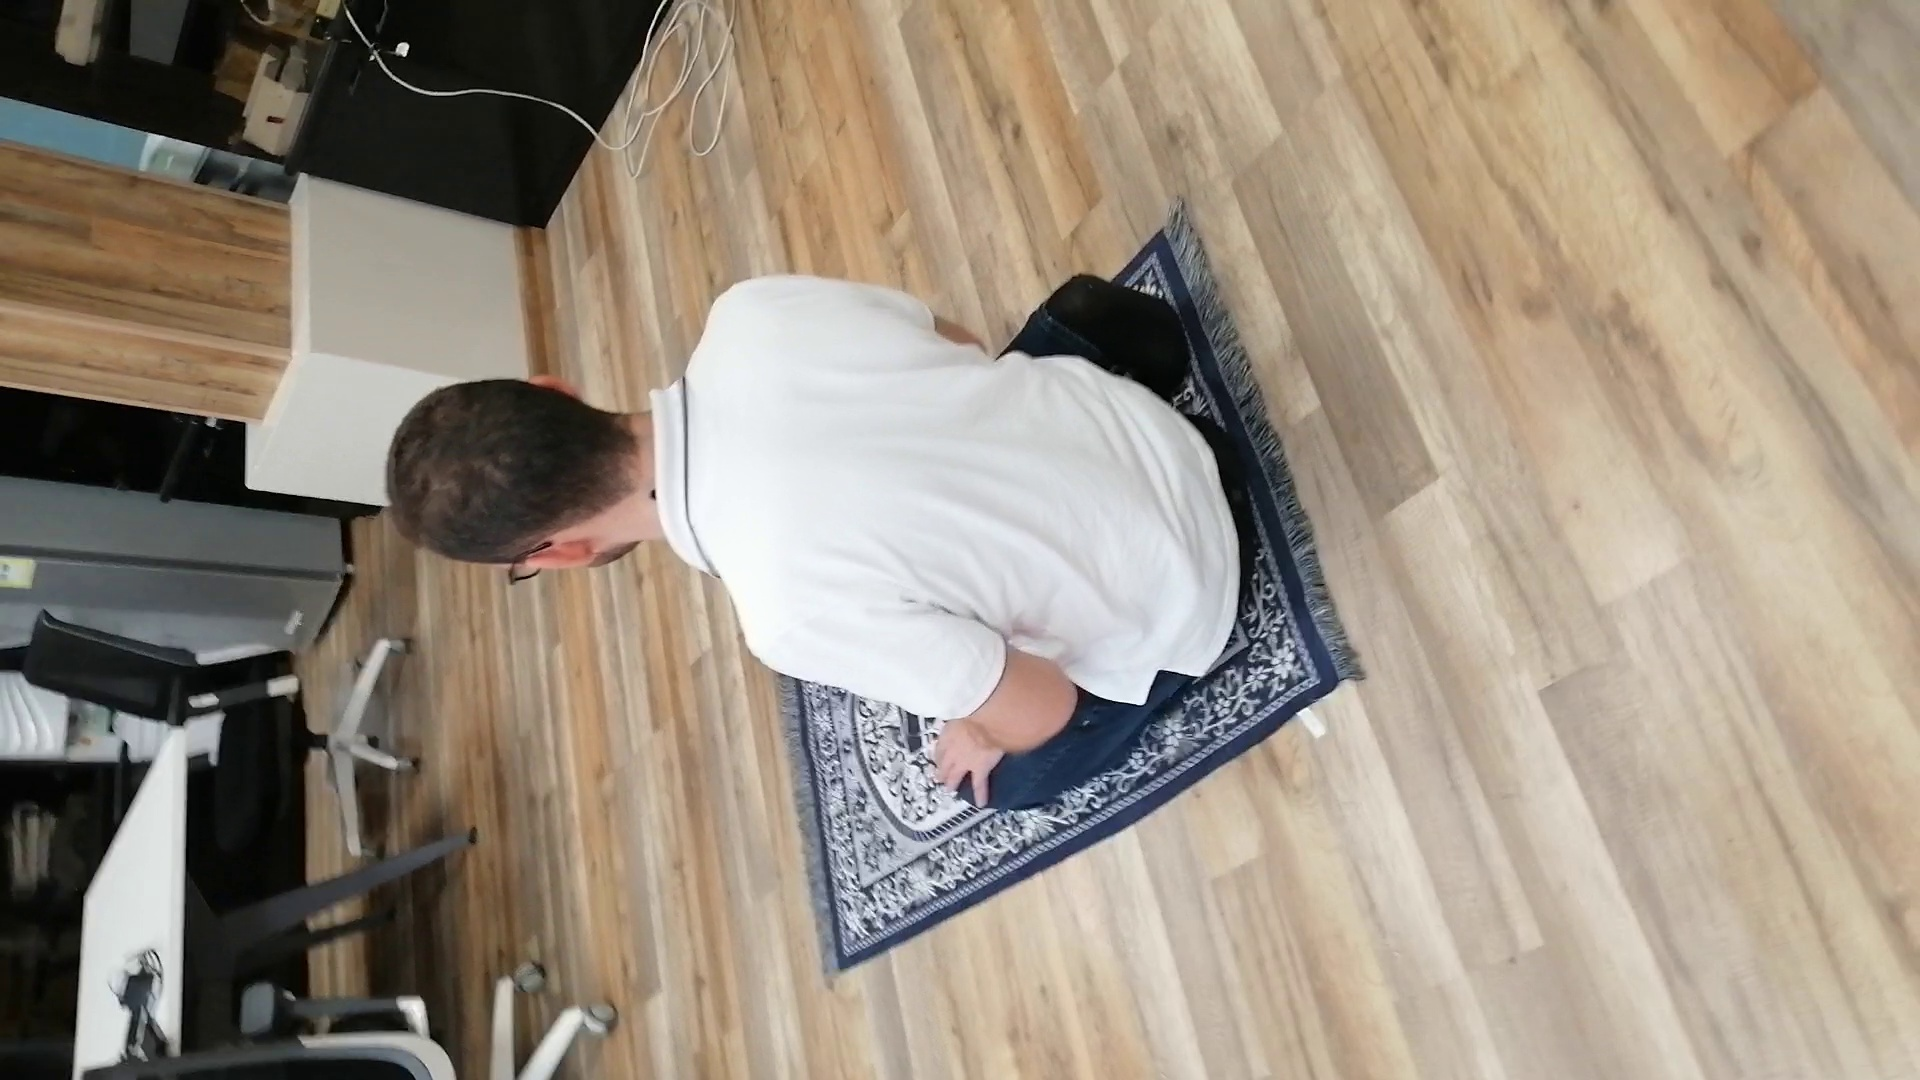sitting: (371, 261, 1276, 820)
